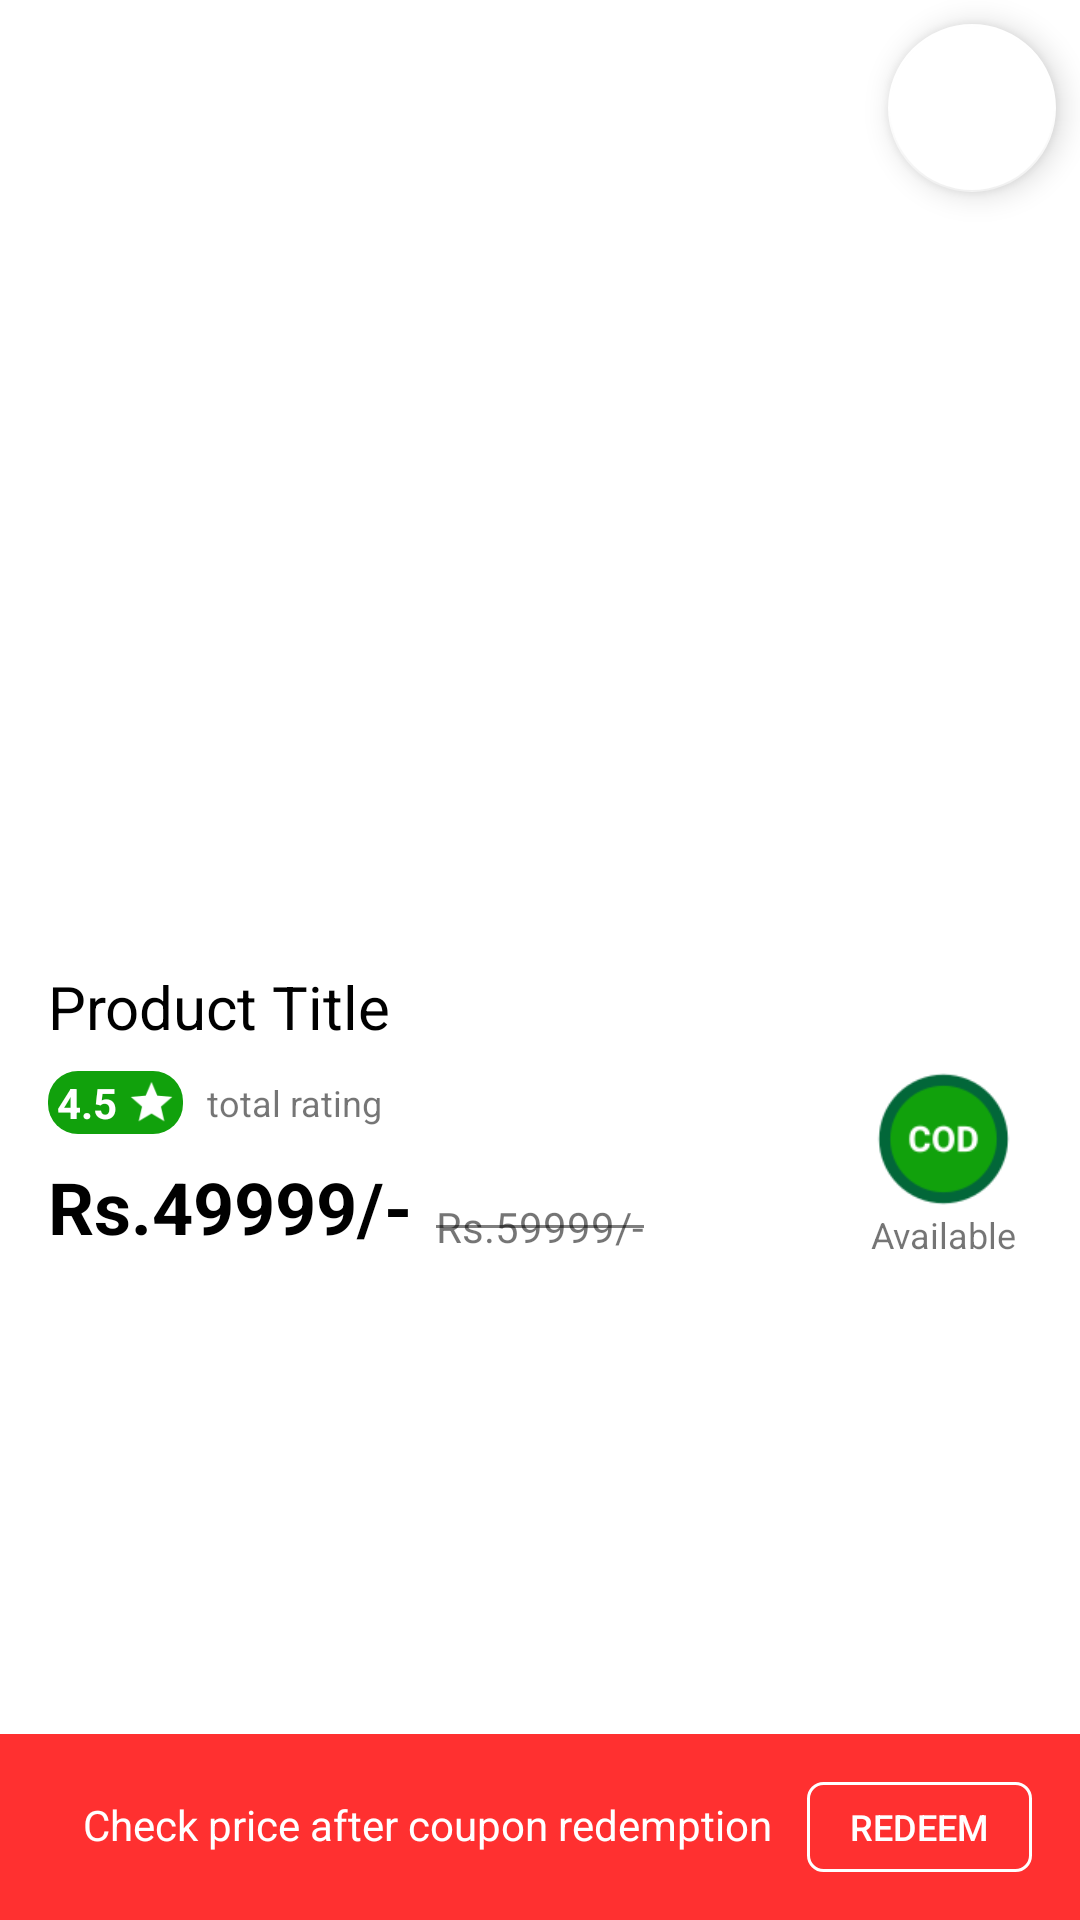

Icon bounding boxes for this 1080px×1920px phone screenshot, format rect(x1, y1, x2, y2):
star: rect(131, 1082, 172, 1121)
